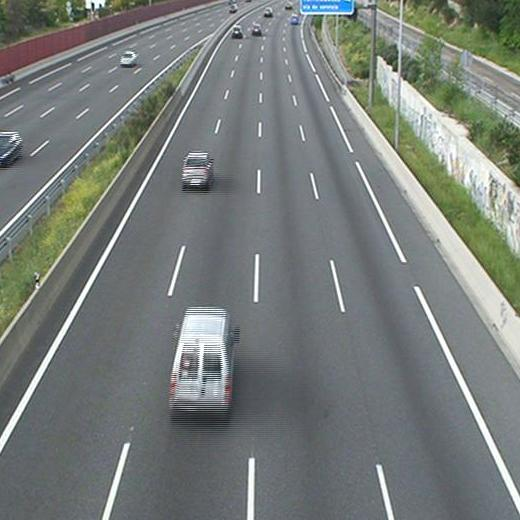car: (182, 152, 211, 185), (232, 24, 243, 37), (251, 23, 262, 35), (289, 14, 300, 24), (263, 7, 273, 16)
van: (171, 309, 233, 409)
